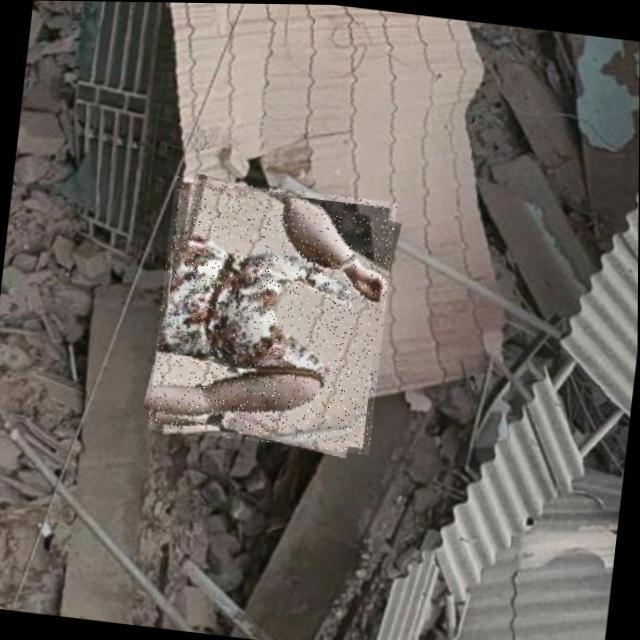Person in Rubble: (146, 175, 396, 454)
